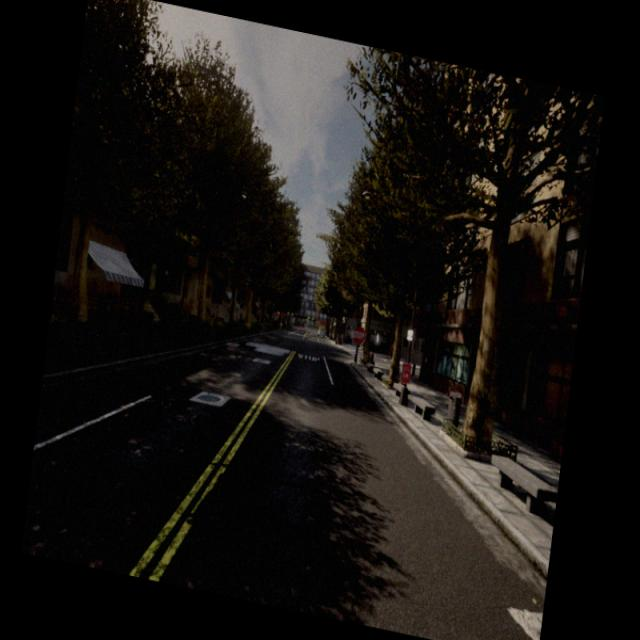stop sign: (349, 318, 368, 364), (351, 324, 366, 347)
